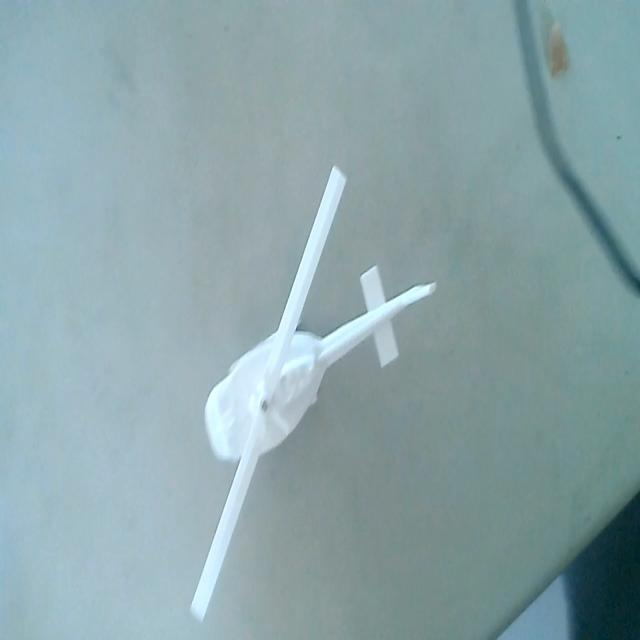Helicopter: (181, 154, 440, 626)
